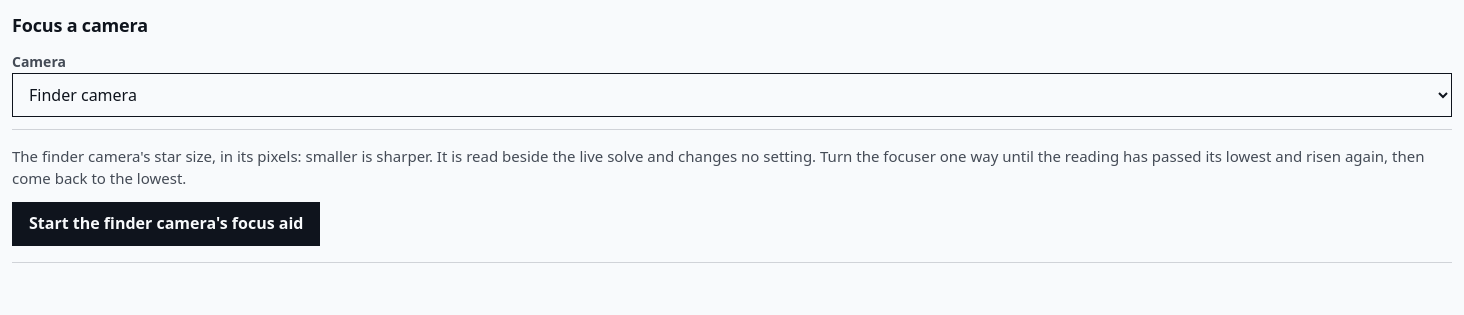
Test: FR-014: shows a refused start or stop's own words as an alert
Later steps or results of the test are not shown.
Click the button "Start the finder camera's focus aid".
click(166, 224)  # box left=12, top=202, right=320, bottom=246
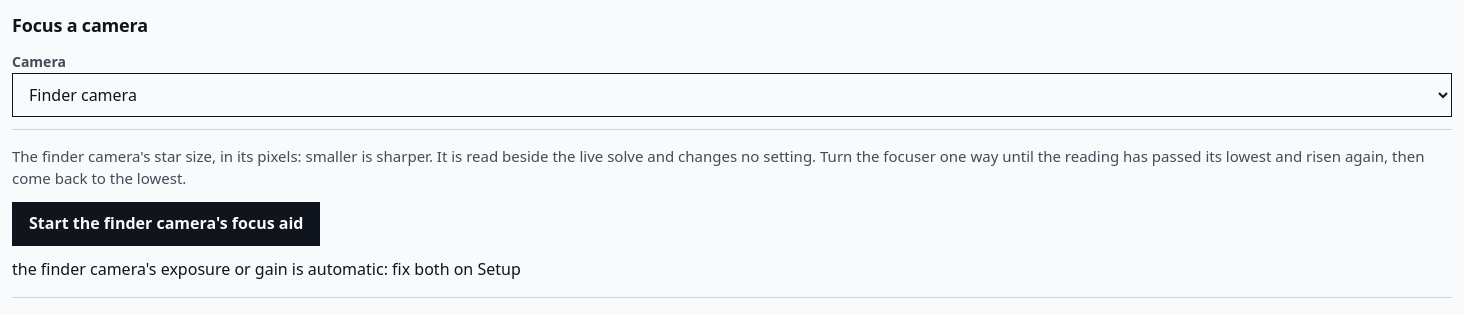
Now the message reads "the finder camera's exposure or gain is automatic: fix both on Setup", box left=12, top=258, right=521, bottom=280
